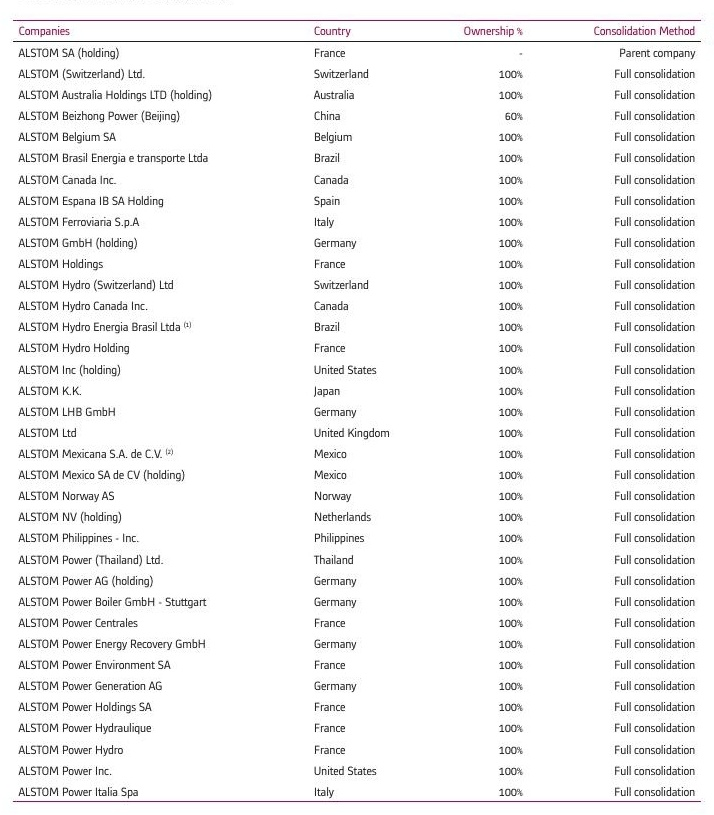table: (0, 0, 714, 815)
